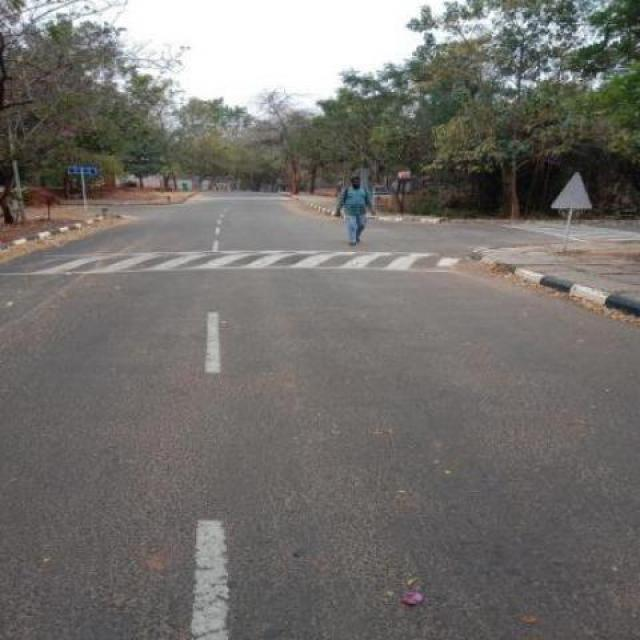Speed Bump: (0, 253, 475, 272)
